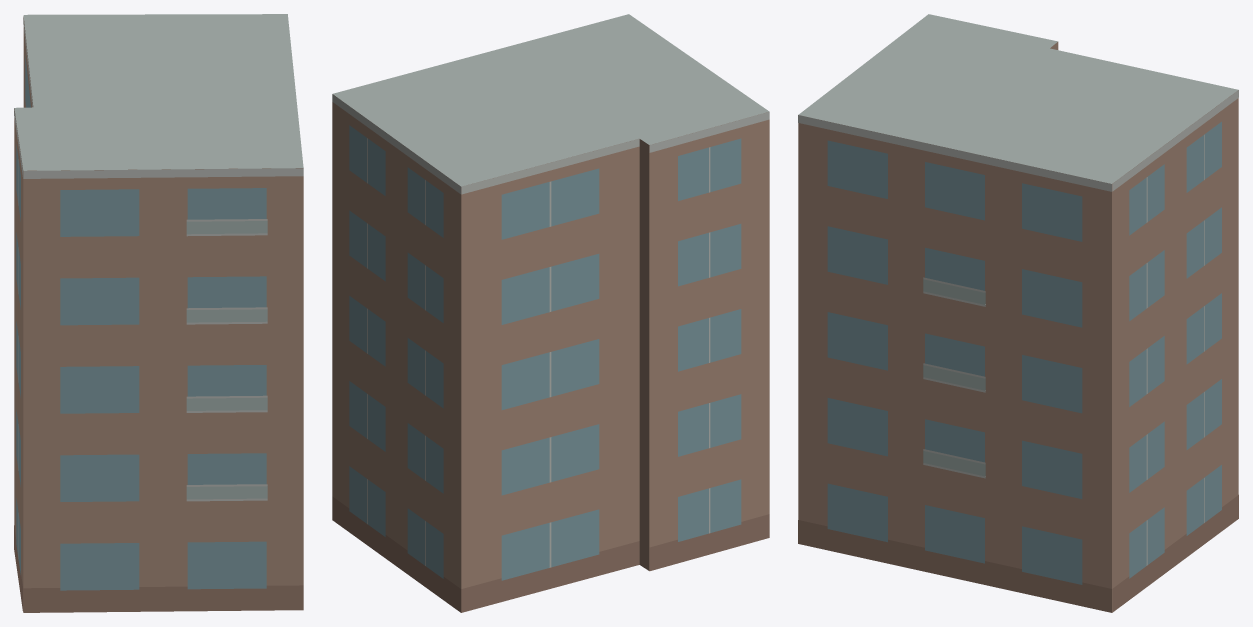
File: survey-upis-32533656.glb
The picture shows the model from 3 angles, left to right: view 1: azimuth 30°, elevation 25°; view 2: azimuth 150°, elevation 25°; view 3: azimuth 270°, elevation 25°; orthographic projection. The views are drawn at different scales.
Parts seen in each view (by area): view 1: survey-upis-32533656.tmp; view 2: survey-upis-32533656.tmp; view 3: survey-upis-32533656.tmp.
Part boxes in pixels (bbox=[...]): survey-upis-32533656.tmp: bbox=[14, 14, 303, 612]; survey-upis-32533656.tmp: bbox=[332, 14, 769, 612]; survey-upis-32533656.tmp: bbox=[798, 14, 1238, 612].
Size of the model in its own units: 11.23 by 13.2 by 12.3.
